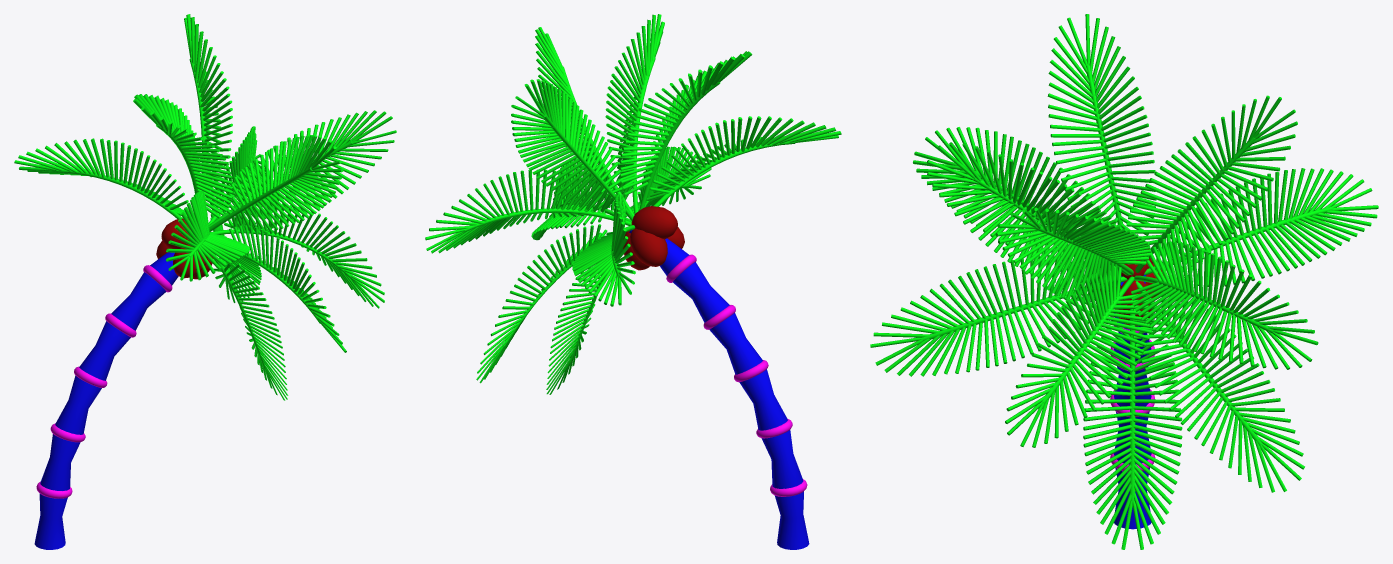
File: SM_Palmtree90.FBX
3 renders of one model, left to right at view 1: azimuth 30°, elevation 25°; view 2: azimuth 150°, elevation 25°; view 3: azimuth 270°, elevation 25°, orthographic. The views are drawn at different scales.
Visible parts, largest first — view 1: Cylinder010; view 2: Cylinder010; view 3: Cylinder010.
Part boxes in pixels (x1,y1,x2,y2): Cylinder010: (14, 14, 396, 549); Cylinder010: (425, 14, 841, 549); Cylinder010: (870, 14, 1378, 549).
Bounding box in the file's own units: 44.92 × 61.56 × 51.73.
